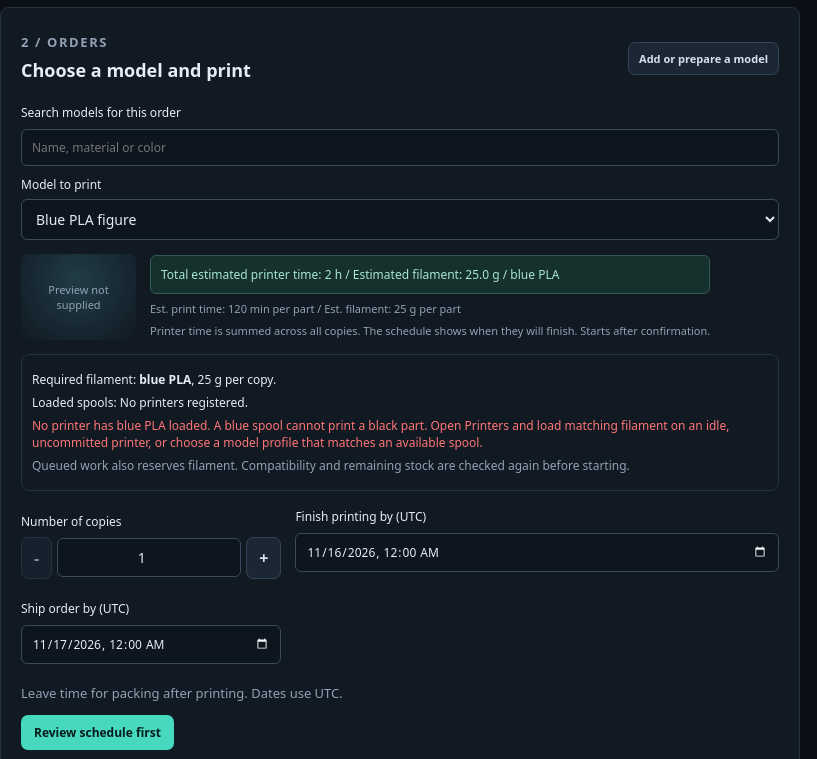
Scenario: guided intake shows deadlines and reviews a held order before any printing
Check: the field labelled "Finish printing by (UTC)" is shown, box [295,532,779,572]
Check: the field labelled "Ship order by (UTC)" is shown, box [21,624,281,664]
Click the button "Review schedule first".
click(97, 732)  # box [21,714,174,750]
(page scrolled)
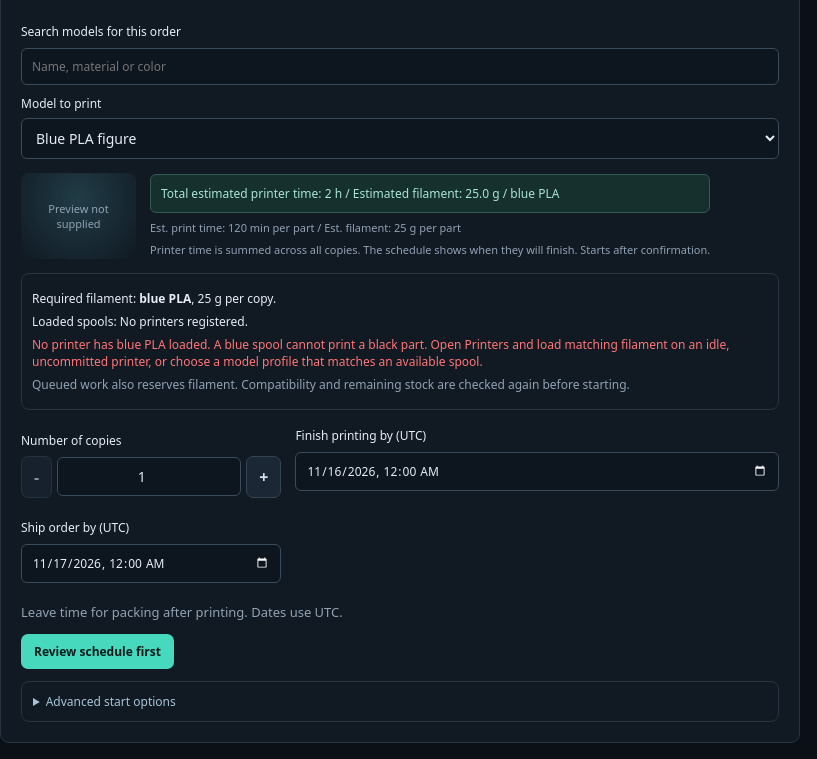
Click the heading "Advanced start options".
click(111, 701)  # box [46,692,176,710]
(page scrolled)
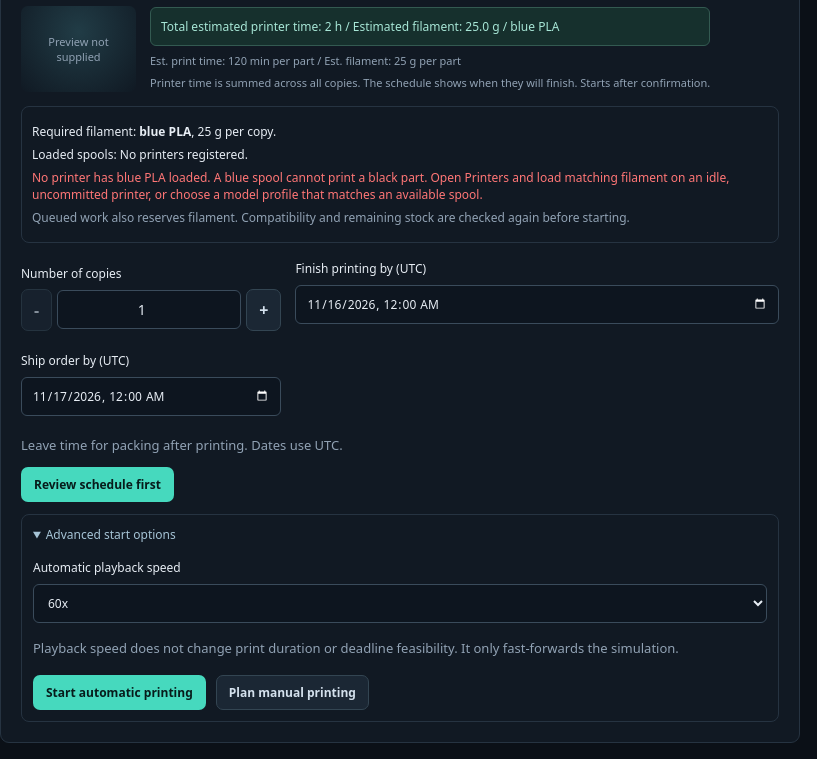
Check: the button "Plan manual printing" is shown, box [216,674,369,710]
